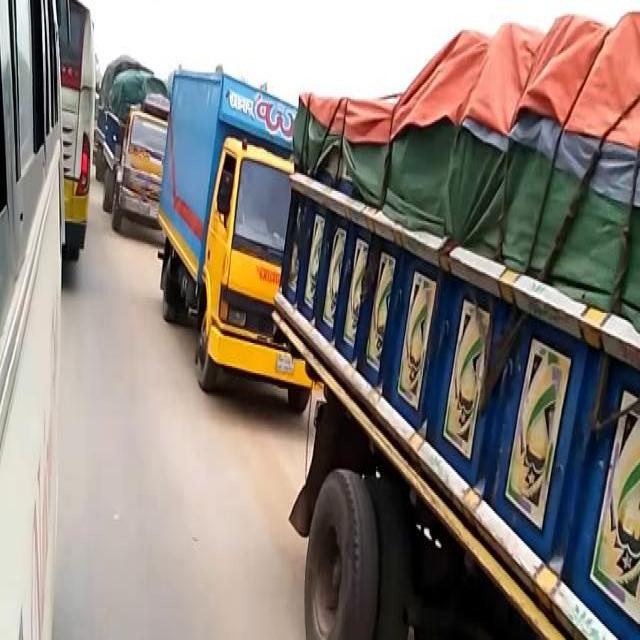11: (154, 61, 323, 397)
18: (270, 17, 638, 634), (96, 50, 168, 231)
Truck: (1, 3, 61, 633), (56, 1, 94, 259)
